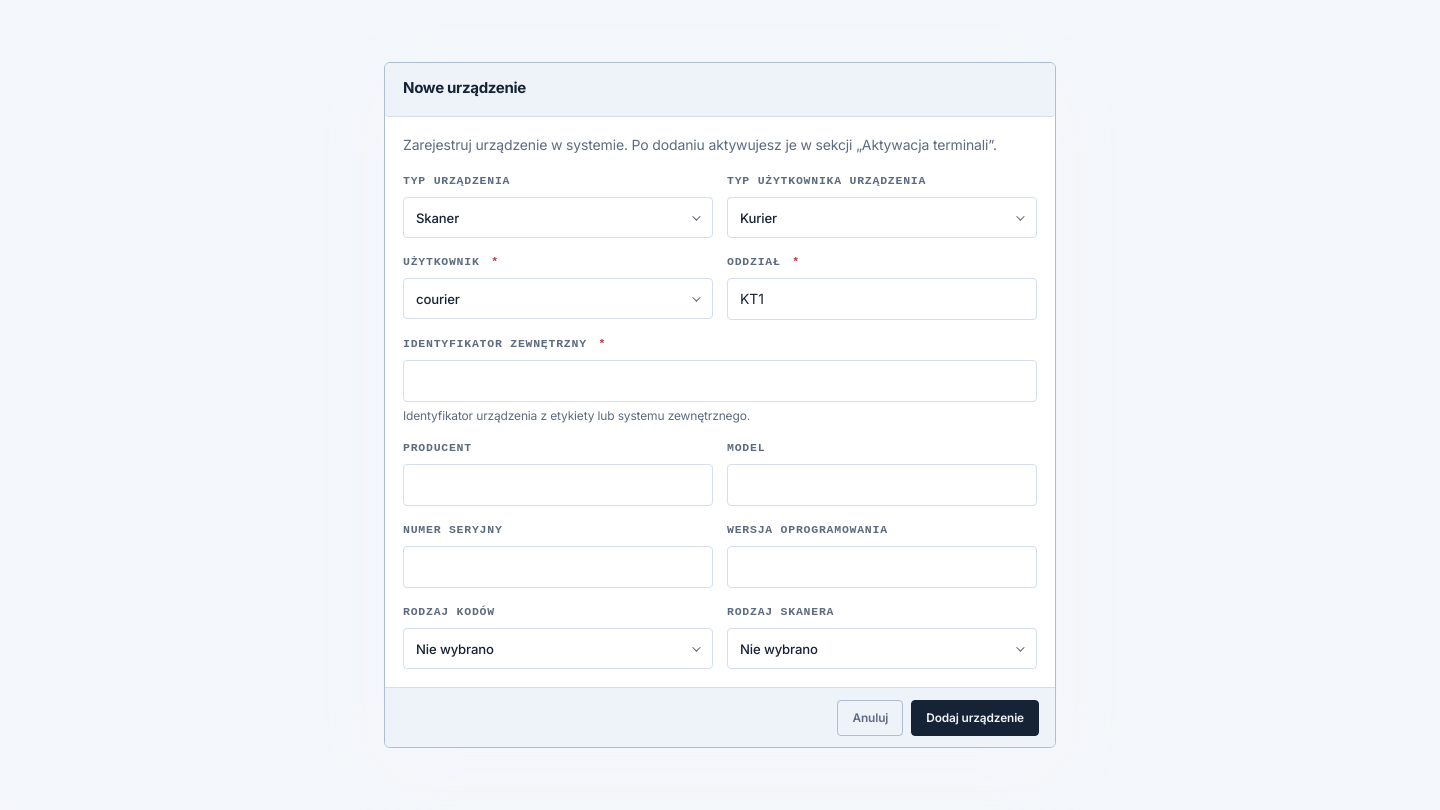
DeviceCreateDialog › requires an external identifier before creating a device
Click the button "Dodaj urządzenie" at (975, 718), box x1=911 y1=700 x2=1039 y2=736
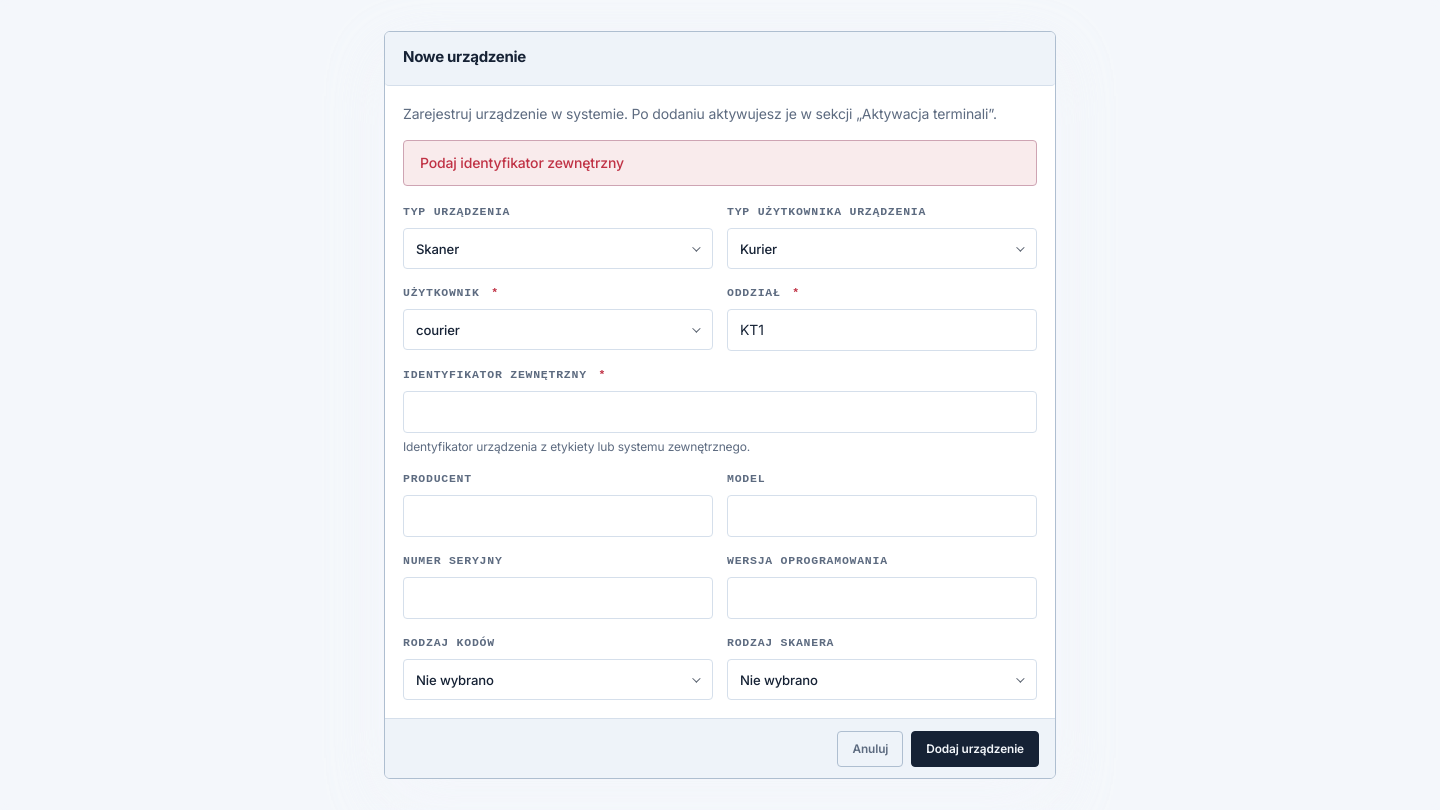
Check: the text "Podaj identyfikator zewnętrzny" is shown, box x1=420 y1=154 x2=624 y2=171
